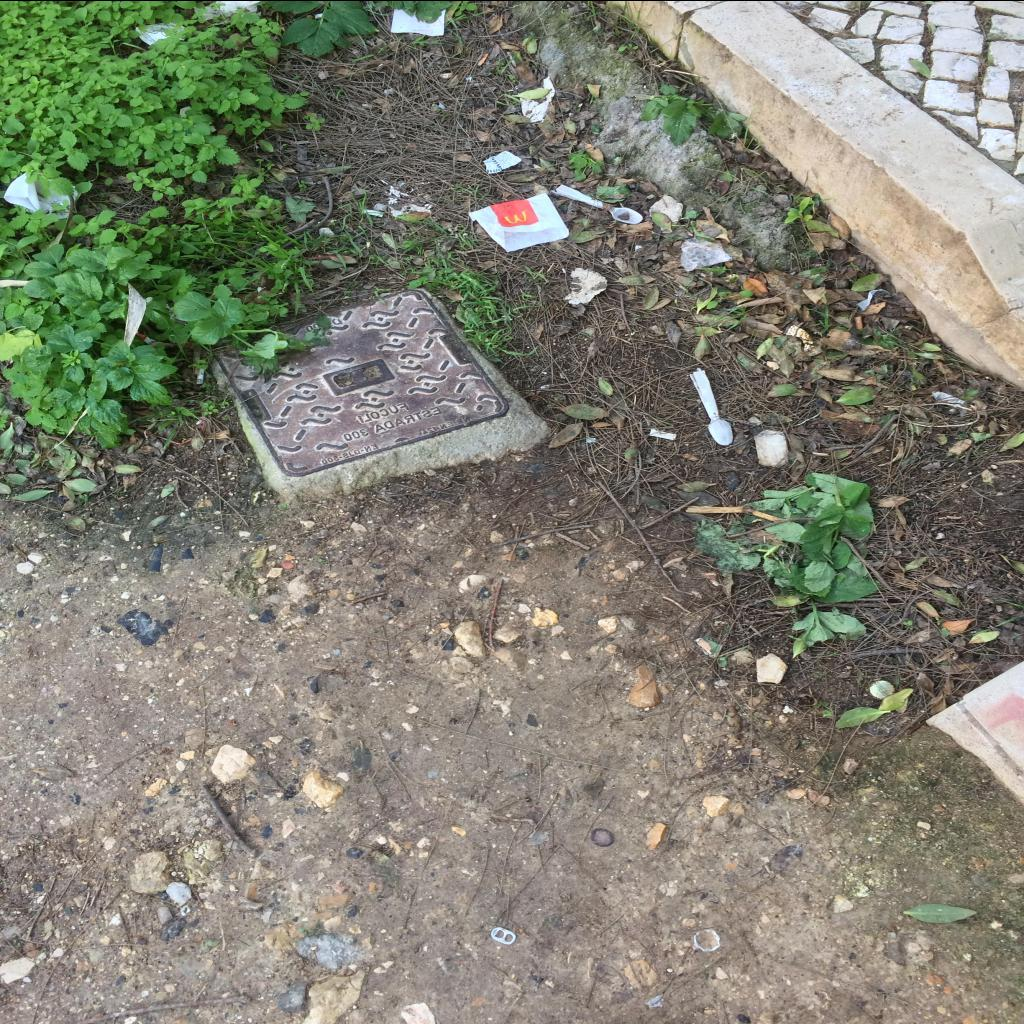Cigarette: (648, 428, 676, 440)
Other plastic: (484, 150, 522, 174), (782, 323, 814, 351)
Plastic film: (680, 236, 732, 271)
Pop tab: (490, 926, 516, 944)
